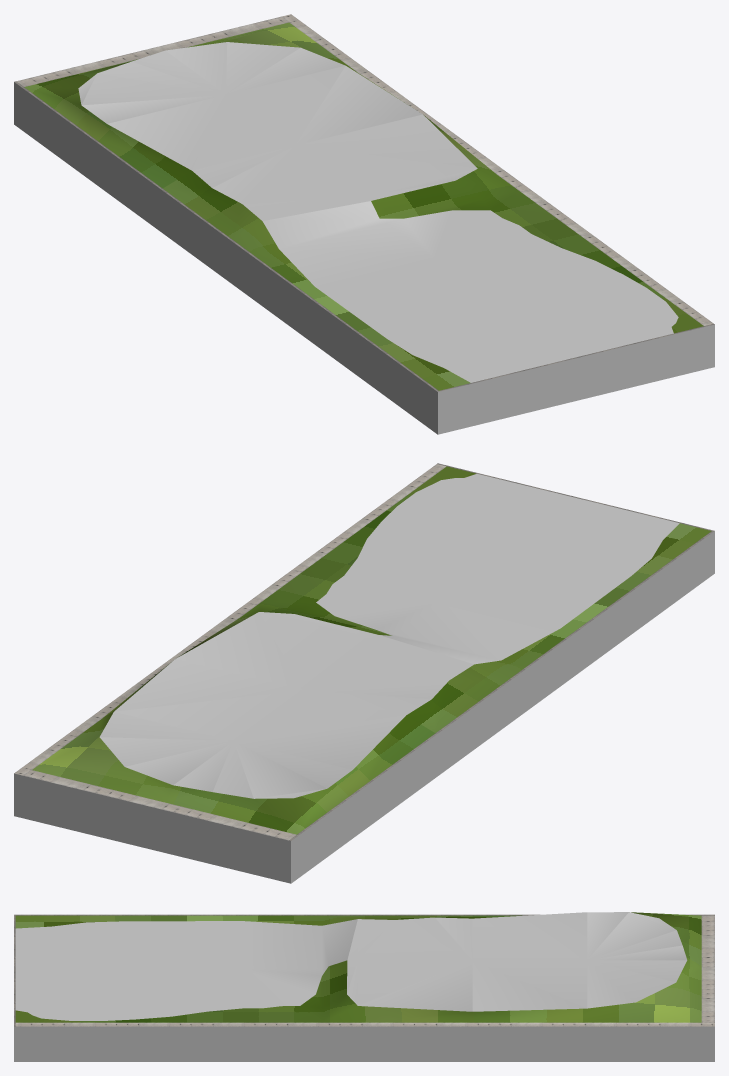
The picture shows the model from 3 angles, top to bottom: view 1: azimuth 30°, elevation 25°; view 2: azimuth 150°, elevation 25°; view 3: azimuth 270°, elevation 25°; orthographic projection. The views are drawn at different scales.
Visible parts, largest first — view 1: BB_020_b1; view 2: BB_020_b1; view 3: BB_020_b1.
Boxes of the visible parts, <box> form: BB_020_b1: <box>14,14,714,434</box>; BB_020_b1: <box>14,463,714,883</box>; BB_020_b1: <box>14,912,714,1061</box>.
Size of the model in its own units: 13.59 by 2.5 by 36.
